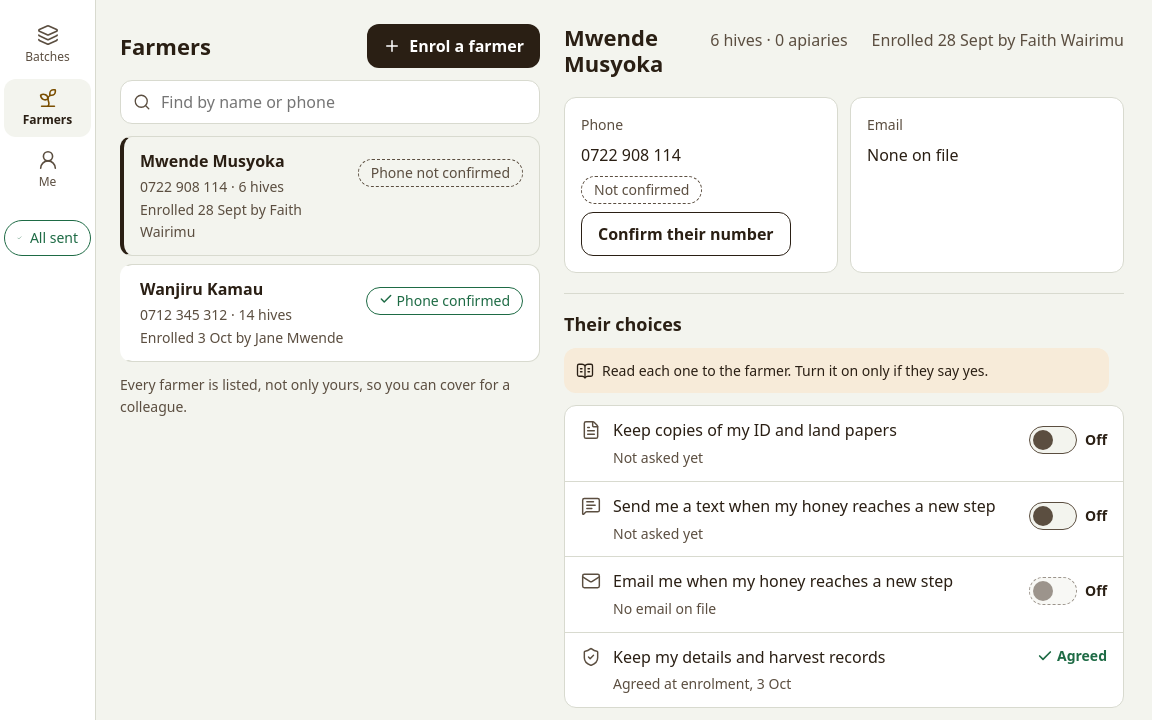
Test: Their choices (13 §4.5, D11) › a switch saves on the device first, then the server records it in this wording
Click the 2nd switch named "Send me a text when my honey reaches a new step" at (1053, 516), box 1029,494 -> 1077,538
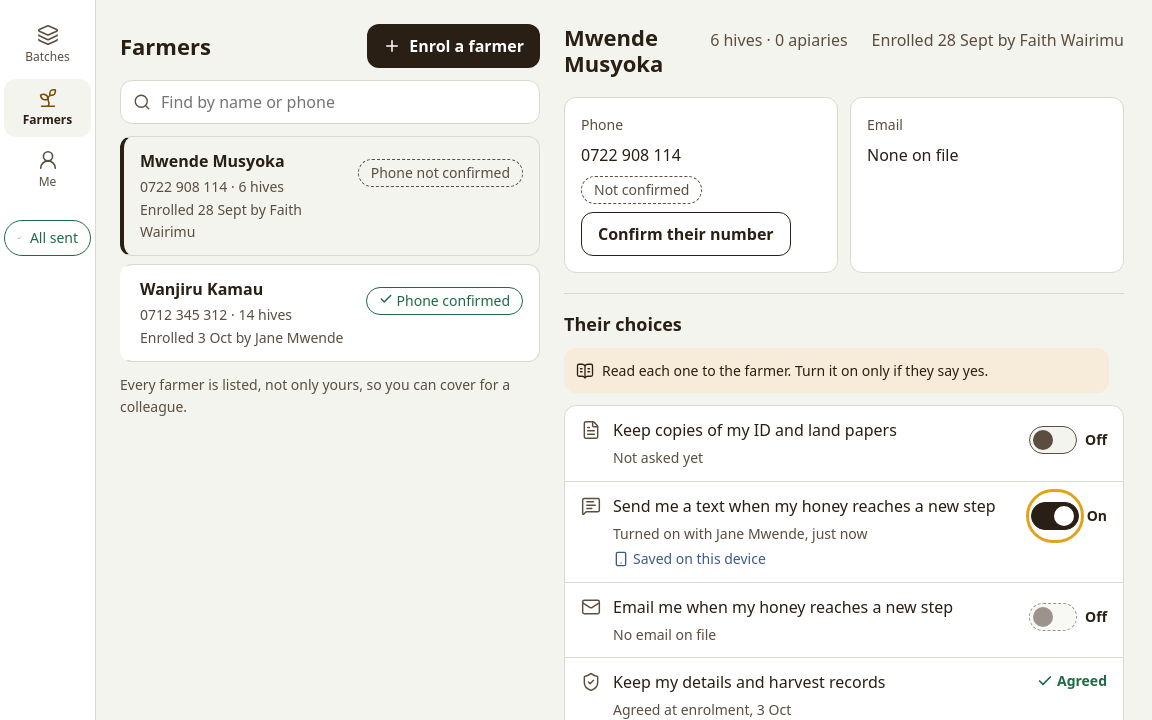
Result: the text "Saved on this device" is shown at 633,548 -> 766,570
Result: the text "Turned on with Jane Mwende, just now" is shown at 613,524 -> 868,542
